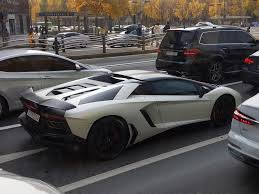Lamborghini: (24, 73, 224, 156)
